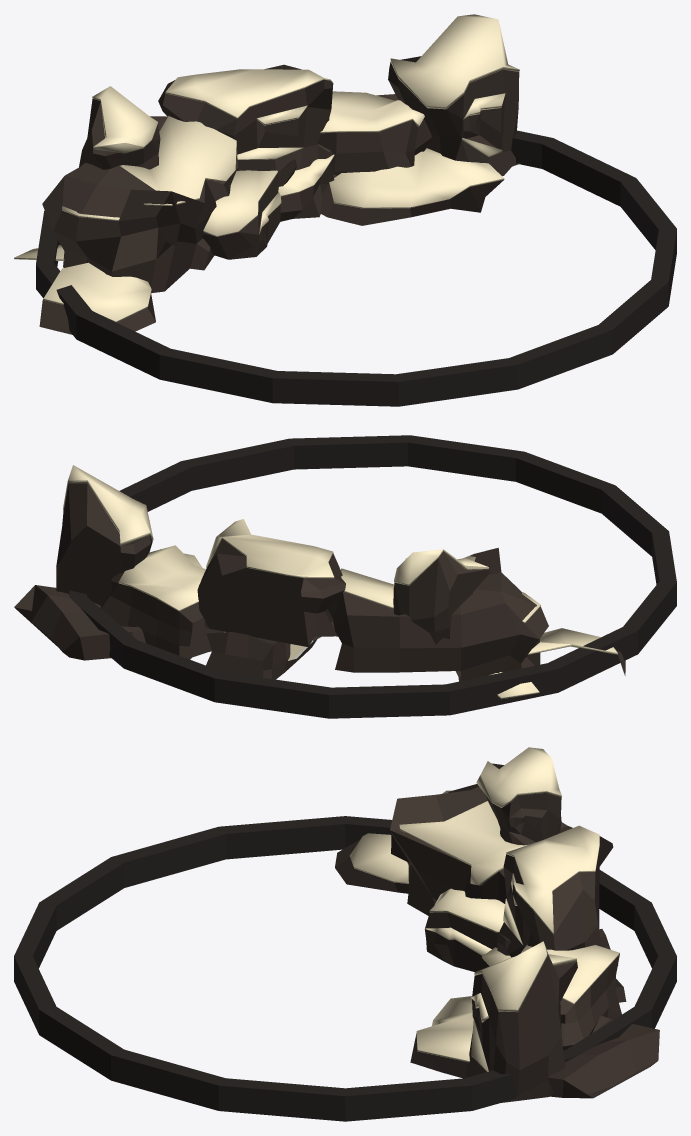
Rendered from Mountains.gltf.
The picture shows the model from 3 angles, top to bottom: view 1: azimuth 30°, elevation 25°; view 2: azimuth 150°, elevation 25°; view 3: azimuth 270°, elevation 25°; orthographic projection. The views are drawn at different scales.
Parts seen in each view (by area): view 1: Cube.023; view 2: Cube.023; view 3: Cube.023.
Part boxes in pixels (x1,y1,x2,y2): Cube.023: (14, 14, 676, 406); Cube.023: (14, 435, 676, 718); Cube.023: (14, 747, 676, 1121).
Size of the model in its own units: 80.82 by 20.35 by 79.14.
1 material, 1 textured.
